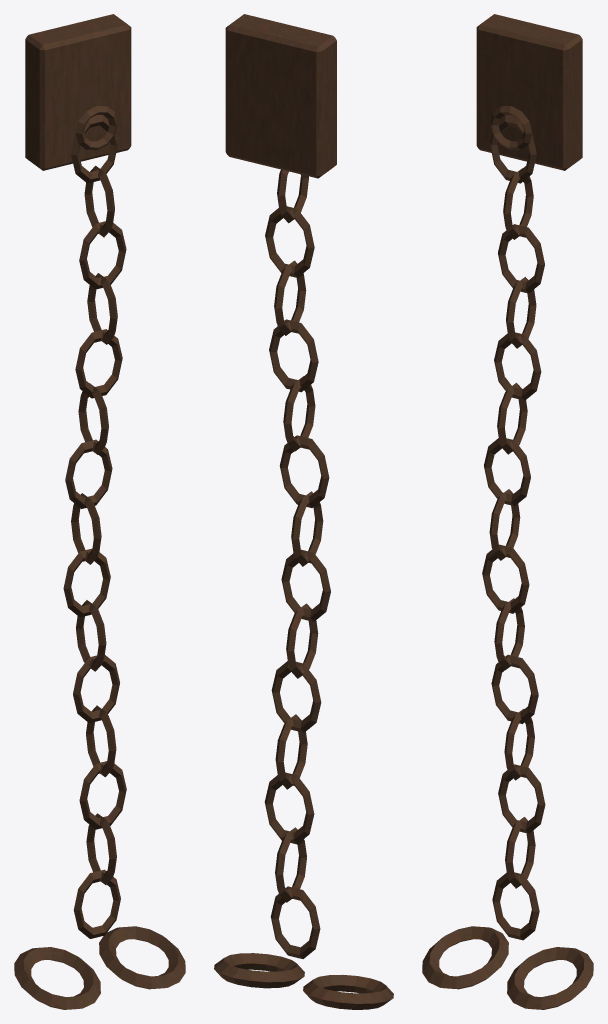
The model's file is chained-manacles.glb.
The picture shows the model from 3 angles, left to right: view 1: azimuth 30°, elevation 25°; view 2: azimuth 150°, elevation 25°; view 3: azimuth 330°, elevation 25°; orthographic projection. The views are drawn at different scales.
Parts seen in each view (by area): view 1: chained-manacles; view 2: chained-manacles; view 3: chained-manacles.
Part boxes in pixels (<box>): chained-manacles: <box>14,14,185,1009</box>; chained-manacles: <box>214,14,393,1009</box>; chained-manacles: <box>422,14,593,1009</box>.
Bounding box in the file's own units: 0.222 × 1.27 × 0.1373.
1 material, 1 textured.
